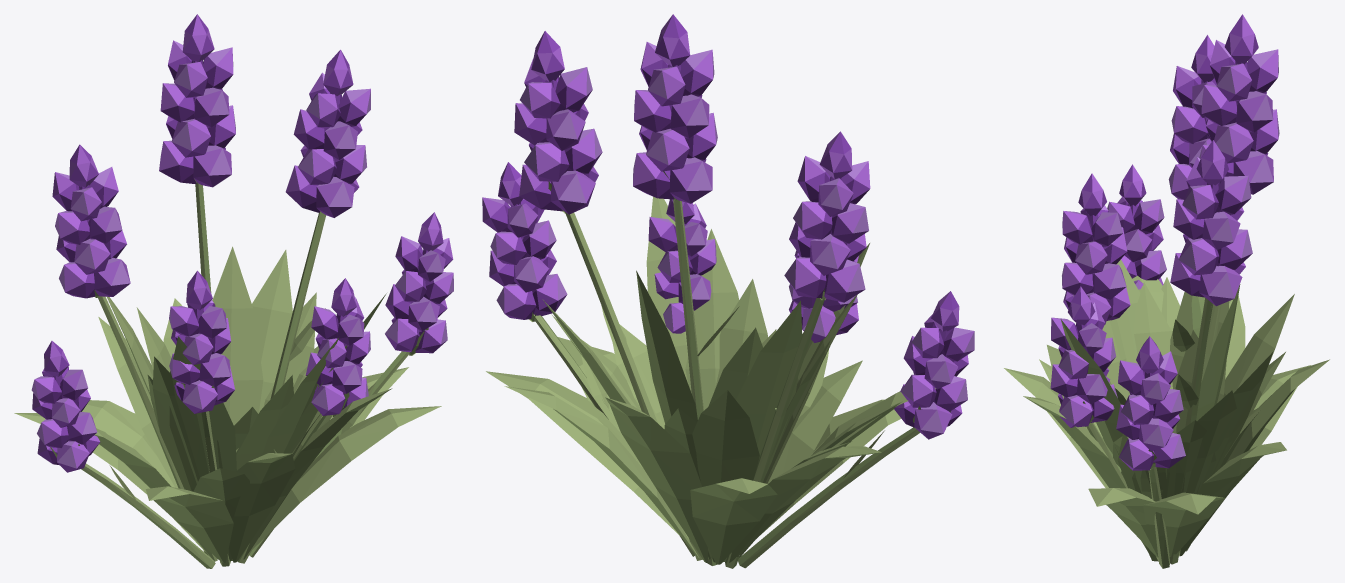
The model's file is FMS_Flower_Lavender.fbx.
3 renders of one model, left to right at view 1: azimuth 30°, elevation 25°; view 2: azimuth 150°, elevation 25°; view 3: azimuth 270°, elevation 25°, orthographic. The views are drawn at different scales.
Visible parts, largest first — view 1: FMS_Flower_Lavender; view 2: FMS_Flower_Lavender; view 3: FMS_Flower_Lavender.
Part boxes in pixels (left/top/right/bottom): FMS_Flower_Lavender: left=14, top=14, right=453, bottom=568; FMS_Flower_Lavender: left=482, top=14, right=974, bottom=568; FMS_Flower_Lavender: left=1004, top=14, right=1329, bottom=568.
Size of the model in its own units: 0.5178 by 0.6 by 0.3258.
